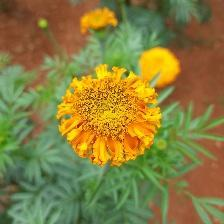marigold: (59, 67, 165, 165)
